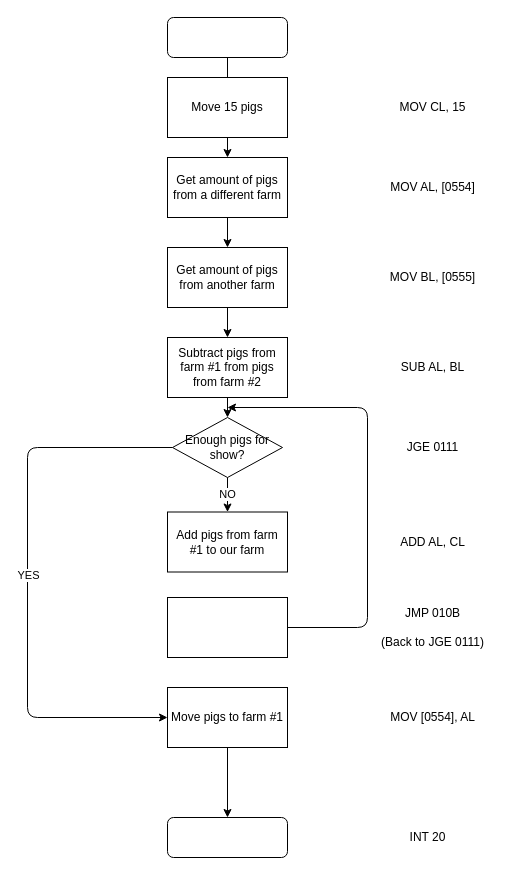
Image size: 510x875. Some labels were removed from this diagram. Each missing label, with the centre of its shape:
End Program: (227,837)
Start: (227,37)
You gotta add some more pigs...: (227,627)
